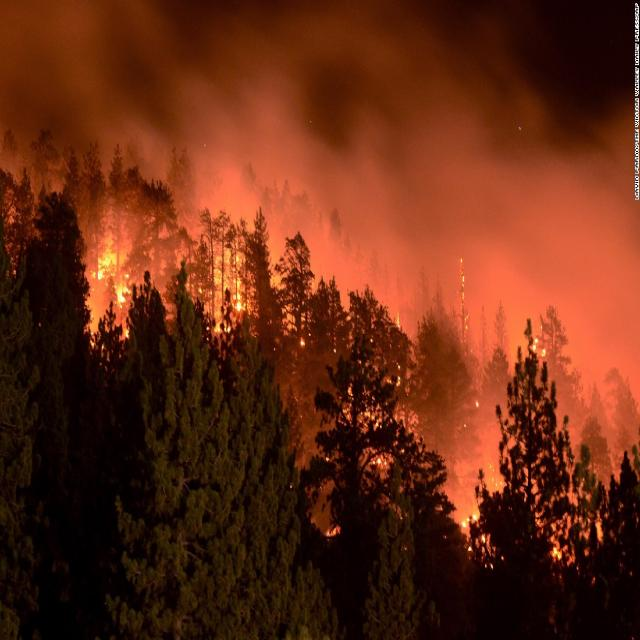Fire: (89, 228, 640, 557)
Smoke: (0, 0, 637, 327)
